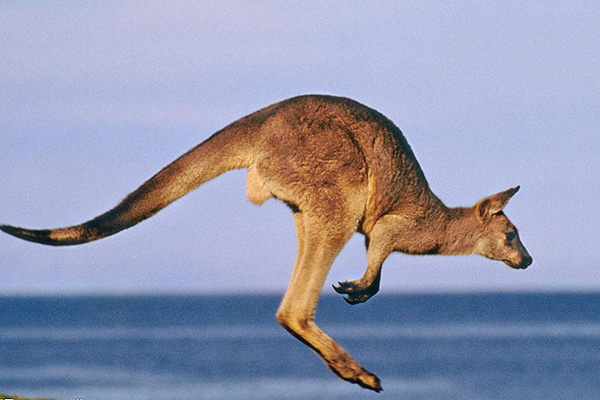kangaroo: (1, 94, 535, 397)
